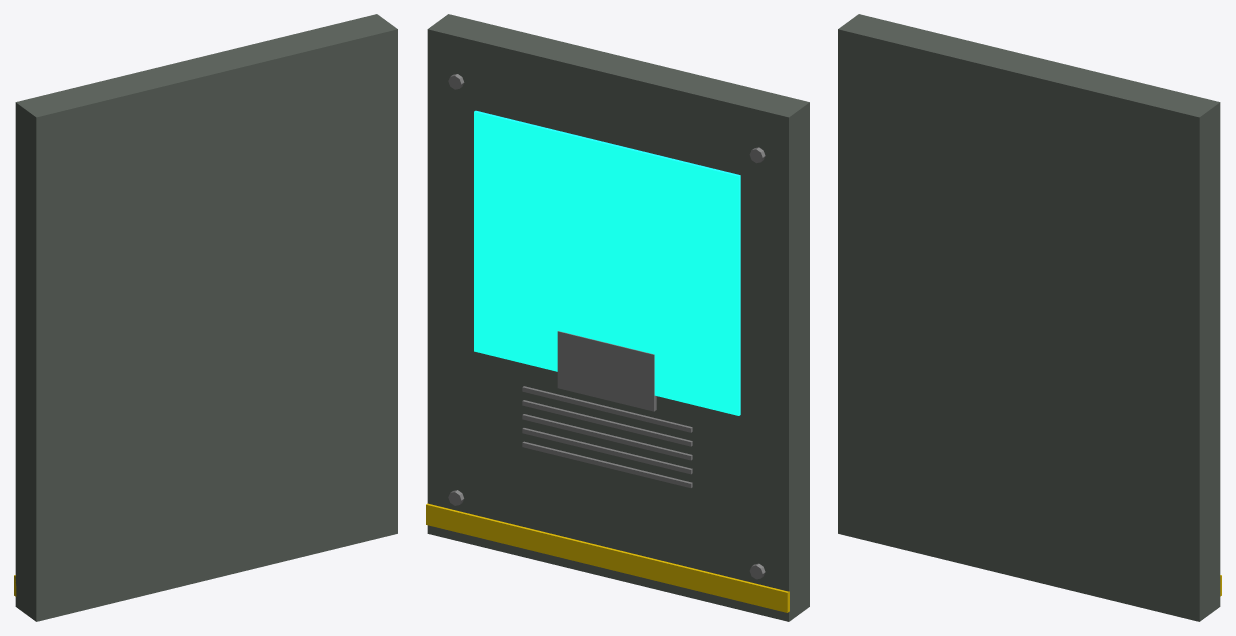
File: DrainTerminal.fbx
3 views of the same model, side by side, from view 1: azimuth 30°, elevation 25°; view 2: azimuth 150°, elevation 25°; view 3: azimuth 330°, elevation 25° (orthographic).
Visible parts, largest first — view 1: Frame; view 2: Frame, Screen, WarnStripe, Keypad, Speaker_1, Speaker_2, Speaker_4, Speaker_0, Speaker_3; view 3: Frame.
Part boxes in pixels (left/top/right/bottom): Frame: left=15, top=14, right=397, bottom=621; Frame: left=427, top=14, right=809, bottom=621; Screen: left=474, top=110, right=740, bottom=415; WarnStripe: left=426, top=503, right=789, bottom=612; Keypad: left=557, top=331, right=656, bottom=411; Speaker_1: left=522, top=428, right=692, bottom=474; Speaker_2: left=522, top=414, right=692, bottom=460; Speaker_4: left=522, top=386, right=692, bottom=432; Speaker_0: left=522, top=441, right=692, bottom=487; Speaker_3: left=522, top=400, right=692, bottom=446; Frame: left=838, top=14, right=1220, bottom=621.
Bounding box in the file's own units: 0.6 × 0.8 × 0.068.
